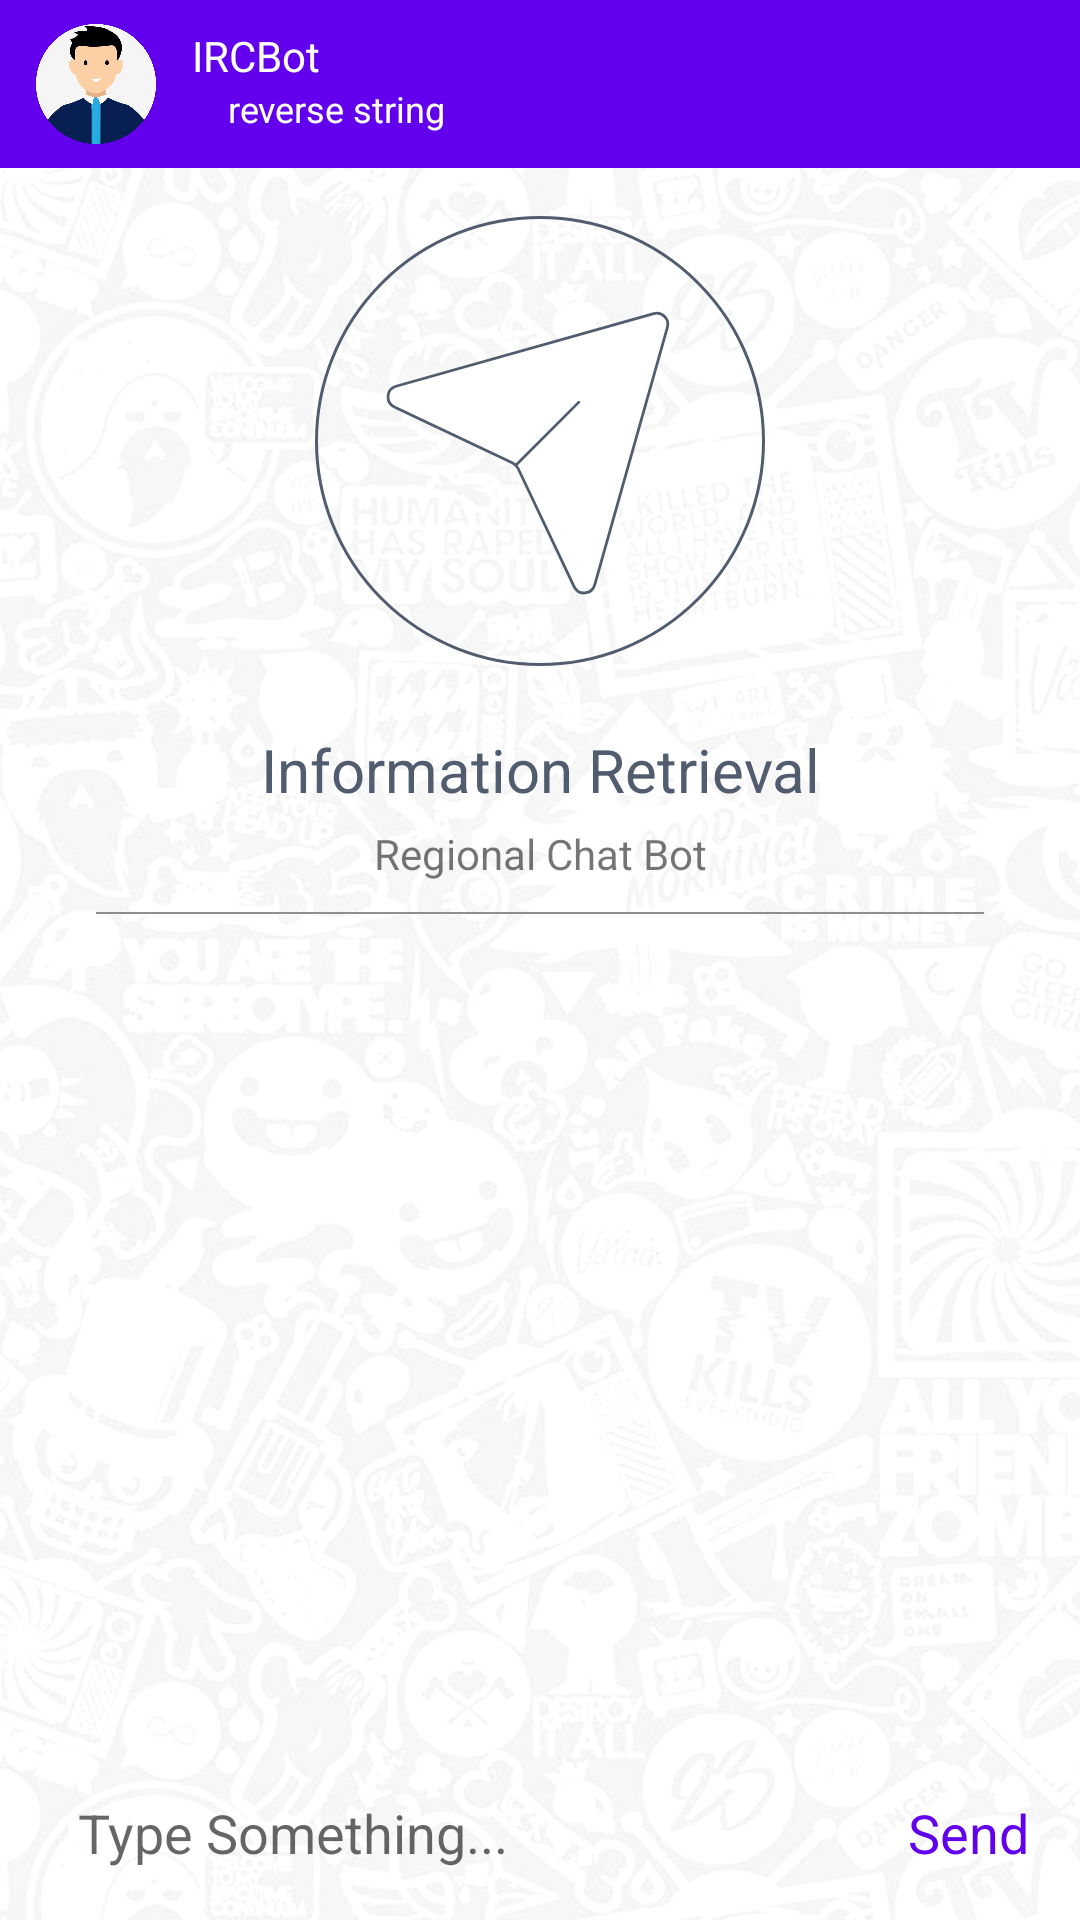

Named icons in this screenshot (1080px x 1920px) and their bounding boxes, (x1,y1,x2,y2):
profile: (36,24,156,144)
